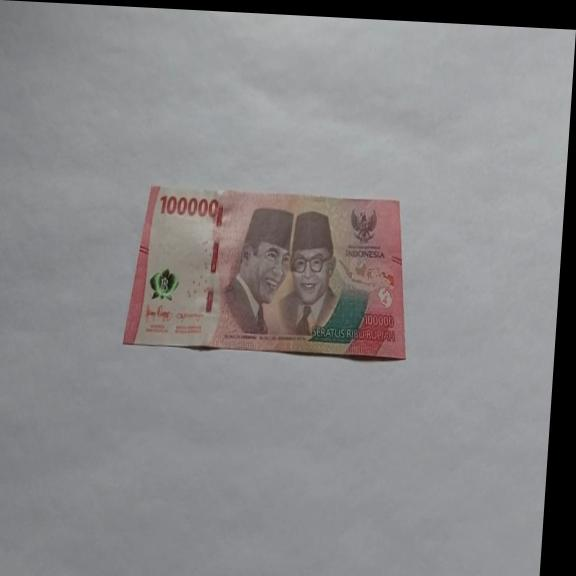Kertas: (122, 181, 417, 362)
